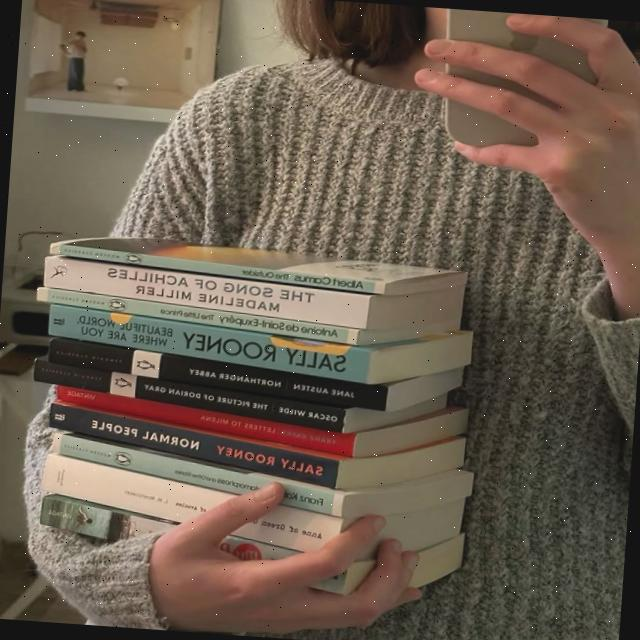book: (53, 299, 374, 383), (53, 402, 339, 490), (43, 256, 377, 326), (60, 387, 353, 459)
